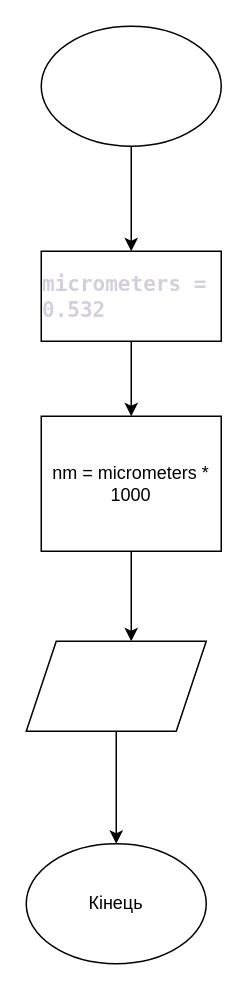
This 248x990 diagram has some shape labels left out. Here are the shapes that lost their labels. From the top down, the centre of each, then its label:
At pixel 130 85: "Початок".
At pixel 115 685: "Вивести в nm".
